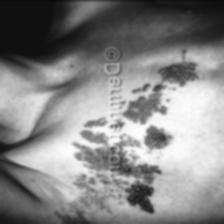Toxin: (127, 182, 158, 214), (143, 124, 170, 152), (61, 207, 87, 224)
